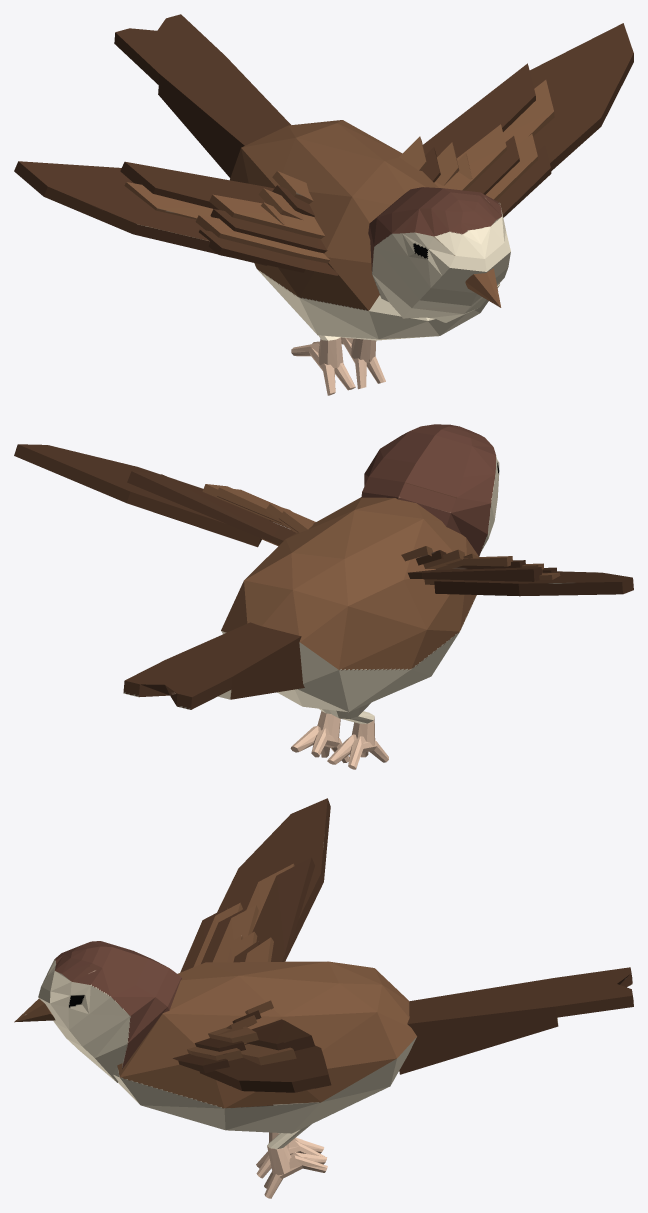
Rendered from small_bird_flying.obj.
3 views of the same model, one above another, from view 1: azimuth 30°, elevation 25°; view 2: azimuth 150°, elevation 25°; view 3: azimuth 270°, elevation 25° (orthographic). The views are drawn at different scales.
Visible parts, largest first — view 1: Small_bird_flying; view 2: Small_bird_flying; view 3: Small_bird_flying.
Boxes of the visible parts, box(x1,y1,x2,y2) form: Small_bird_flying: box(14, 14, 633, 395); Small_bird_flying: box(14, 424, 633, 769); Small_bird_flying: box(14, 798, 633, 1198).
Bounding box in the file's own units: 2.58 × 1.13 × 2.5.
1 material, 1 textured.
